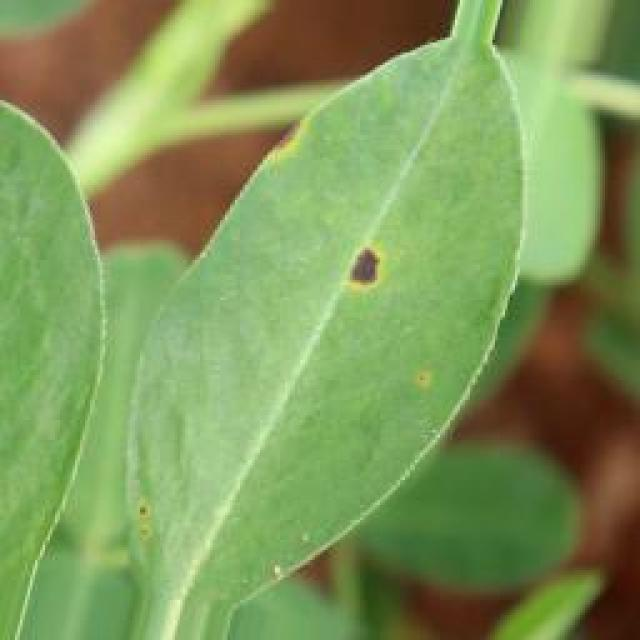Sigatoka: (332, 227, 397, 316), (130, 485, 189, 559), (256, 124, 314, 161), (412, 363, 452, 412)
